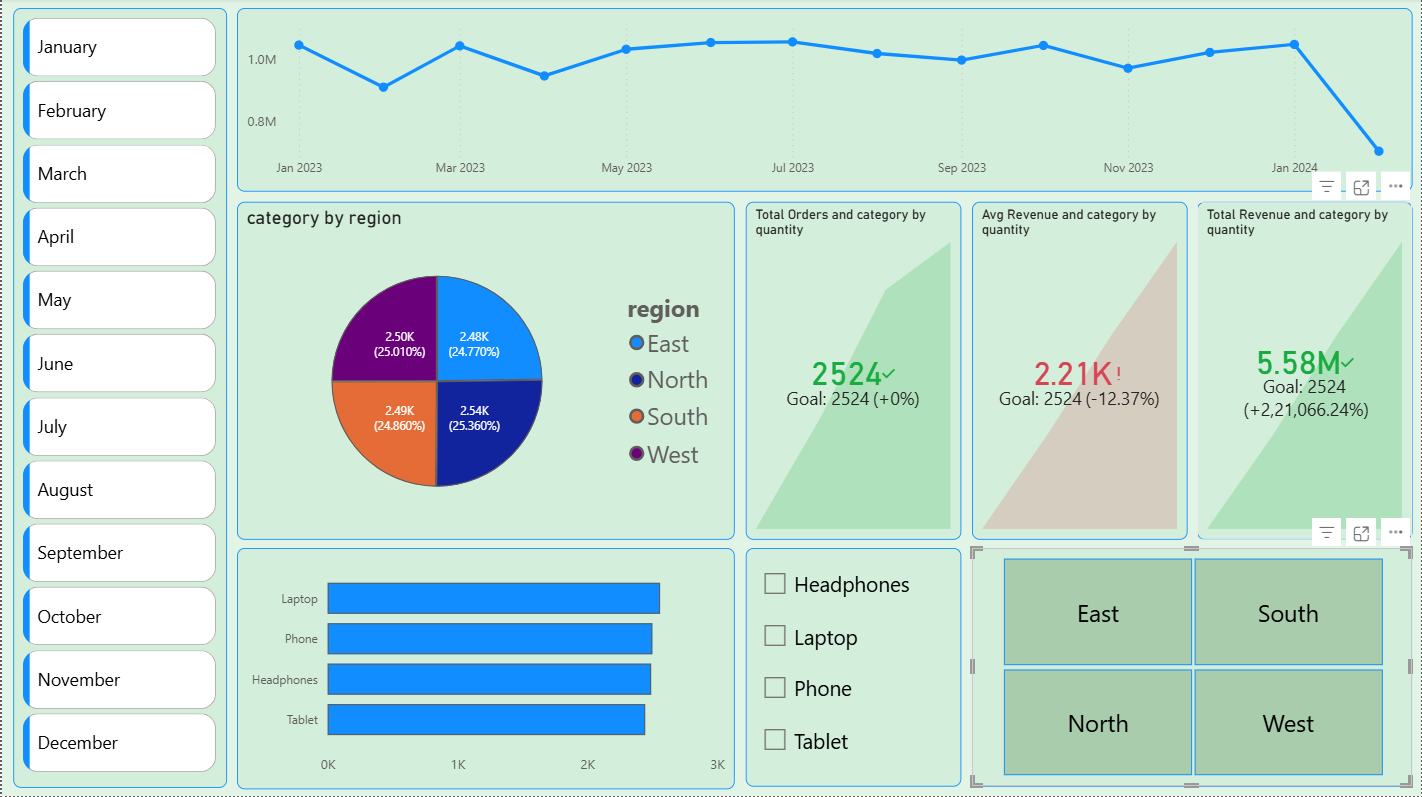

This screenshot's page, from the dashboard's own definition file:
{"tool":"powerbi","page":{"name":"Page 1","canvas":[1280,720],"ordinal":0},"visuals":[{"type":"clusteredBarChart","fields":{"Category":["sales_data_10k.product"],"Y":["CountNonNull(sales_data_10k.revenue)"]},"box":[211.5,496.3,449.1,217.7],"z":0},{"type":"lineChart","fields":{"Y":["Sum(sales_data_10k.revenue)"],"Category":["sales_data_10k.order_date.Variation.Date Hierarchy.Year","sales_data_10k.order_date.Variation.Date Hierarchy.Month"]},"box":[211.5,8.7,1059.9,165.4],"z":1},{"type":"pieChart","fields":{"Y":["CountNonNull(sales_data_10k.category)"],"Series":["sales_data_10k.region"]},"box":[211.5,184.1,449.1,304.8],"z":2},{"type":"slicer","fields":{"Values":["sales_data_10k.product"]},"box":[670.5,496.3,194.1,215.2],"z":3},{"type":"slicer","fields":{"Values":["sales_data_10k.region"]},"box":[874.5,496.3,396.8,215.2],"z":4},{"type":"advancedSlicerVisual","fields":{"Values":["sales_data_10k.order_date.Variation.Date Hierarchy.Month"]},"box":[10,8.7,192.8,702.8],"z":5},{"type":"kpi","fields":{"Indicator":["sales_data_10k.Total Revenue"],"TrendLine":["sales_data_10k.quantity"],"Goal":["CountNonNull(sales_data_10k.category)"]},"box":[1077.3,184.1,194.1,304.8],"z":6},{"type":"kpi","fields":{"TrendLine":["sales_data_10k.quantity"],"Goal":["CountNonNull(sales_data_10k.category)"],"Indicator":["sales_data_10k.Avg Revenue"]},"box":[874.5,184.1,194.1,304.8],"z":7},{"type":"kpi","fields":{"TrendLine":["sales_data_10k.quantity"],"Goal":["CountNonNull(sales_data_10k.category)"],"Indicator":["sales_data_10k.Total Orders"]},"box":[670.5,184.1,194.1,304.8],"z":8}]}

Visuals, with their boxes in screenshot pixels (x1, y1, x2, y2), scaled from the page's 1280x720 canvas onto the 1422x797 screenshot:
clusteredBarChart - sales_data_10k.product x CountNonNull(sales_data_10k.revenue): box(235, 549, 734, 790)
lineChart - Sum(sales_data_10k.revenue) x sales_data_10k.order_date.Variation.Date Hierarchy.Year: box(235, 10, 1412, 193)
pieChart - CountNonNull(sales_data_10k.category) x sales_data_10k.region: box(235, 204, 734, 541)
slicer - sales_data_10k.product: box(745, 549, 961, 788)
slicer - sales_data_10k.region: box(972, 549, 1412, 788)
advancedSlicerVisual - sales_data_10k.order_date.Variation.Date Hierarchy.Month: box(11, 10, 225, 788)
kpi - sales_data_10k.Total Revenue x sales_data_10k.quantity: box(1197, 204, 1412, 541)
kpi - sales_data_10k.quantity x CountNonNull(sales_data_10k.category): box(972, 204, 1187, 541)
kpi - sales_data_10k.quantity x CountNonNull(sales_data_10k.category): box(745, 204, 961, 541)
